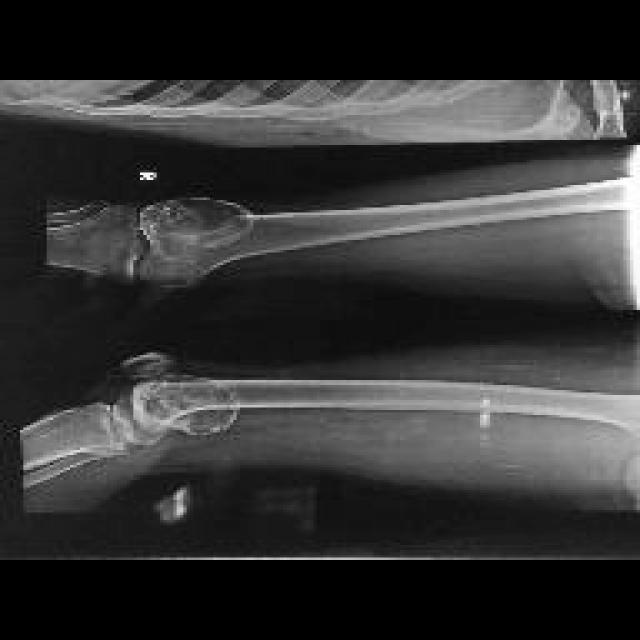bone-cancer: (136, 372, 238, 442), (140, 197, 256, 250)
